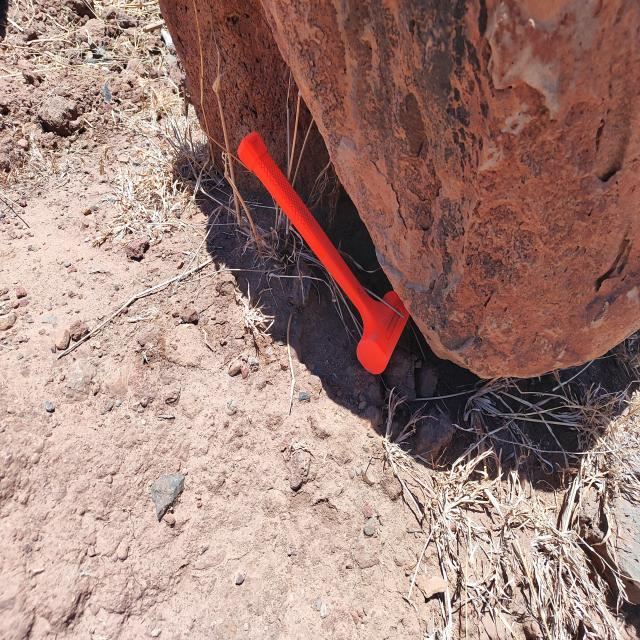Orange_hammer: (236, 130, 410, 375)
